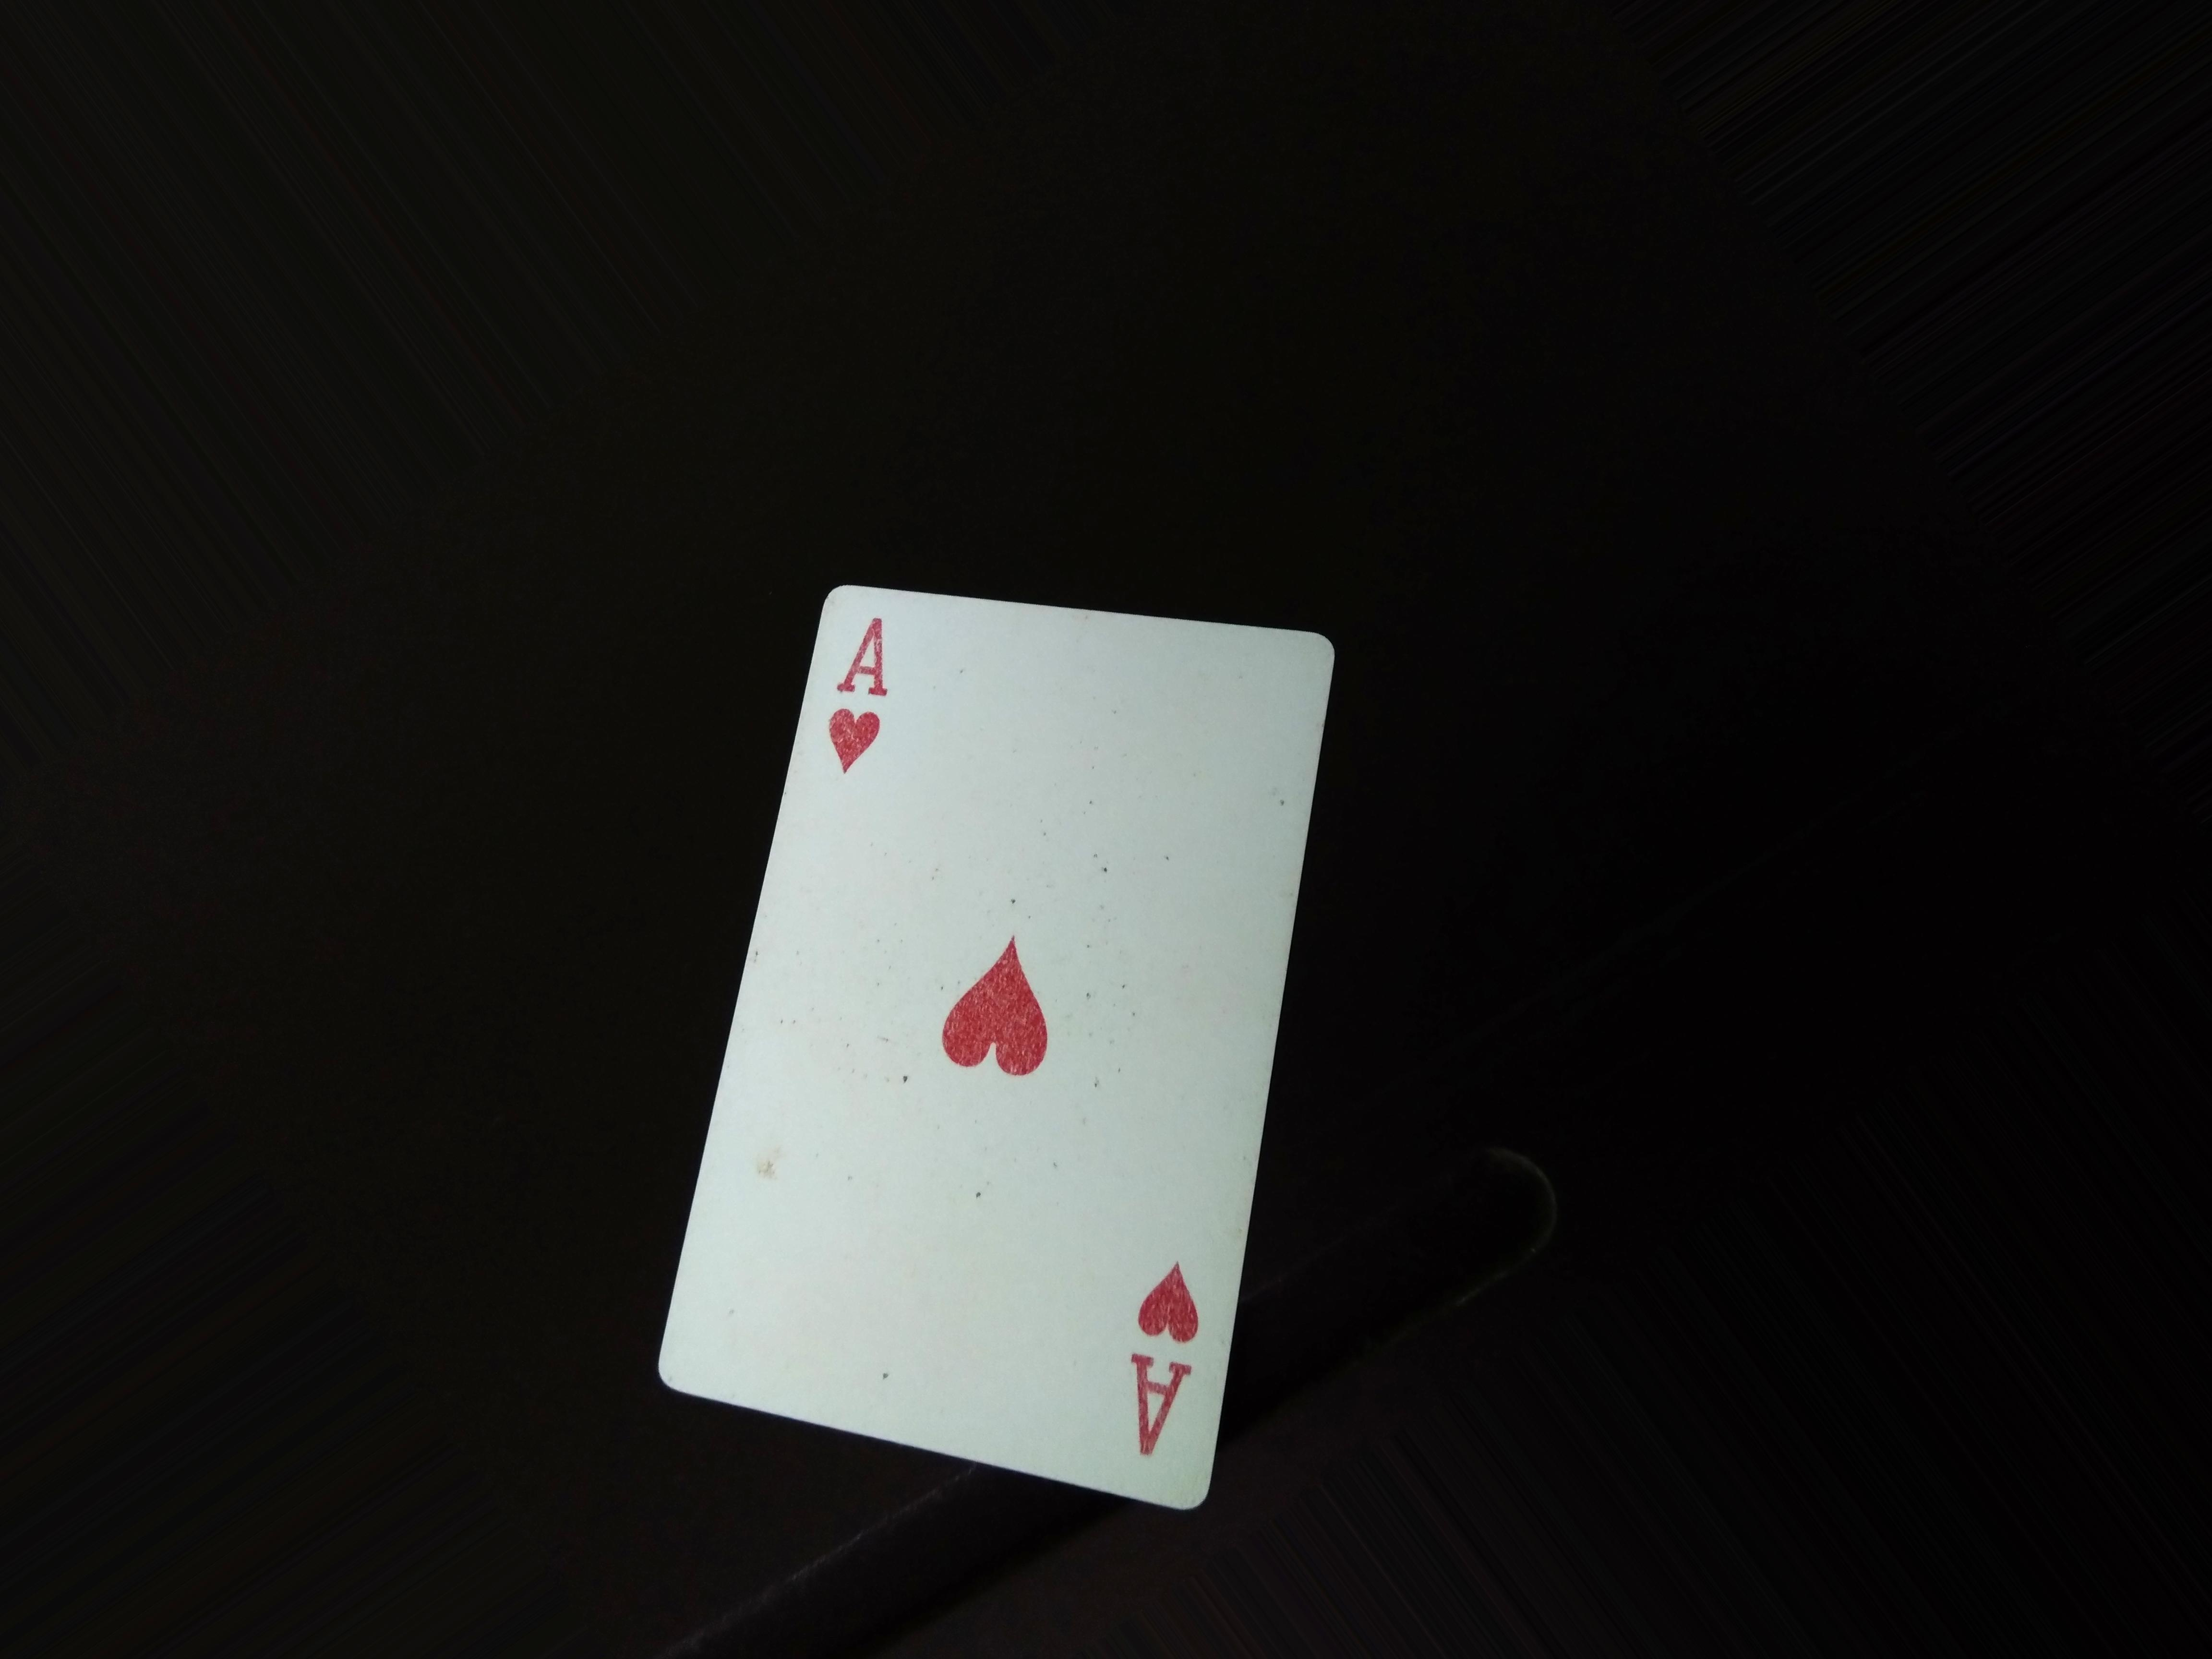AH: (822, 596, 902, 793)
